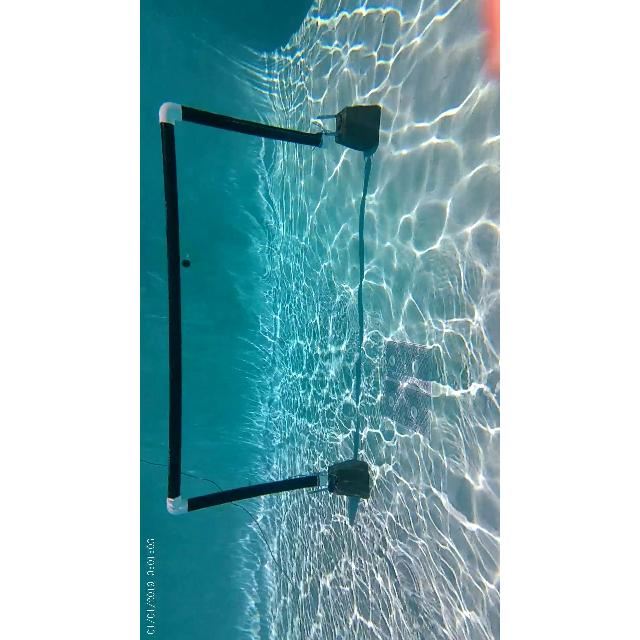prequal gate: (158, 102, 336, 514)
prequal gate leg l: (162, 470, 346, 514)
prequal gate leg r: (159, 104, 331, 156)
